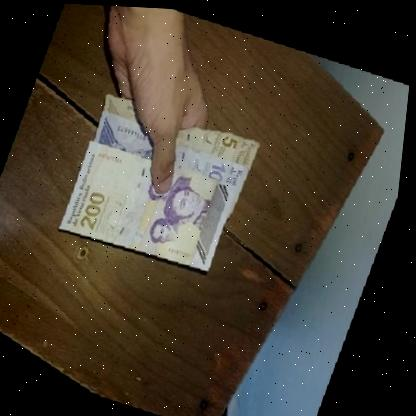two_hundred-front-vef: (58, 136, 244, 271)
